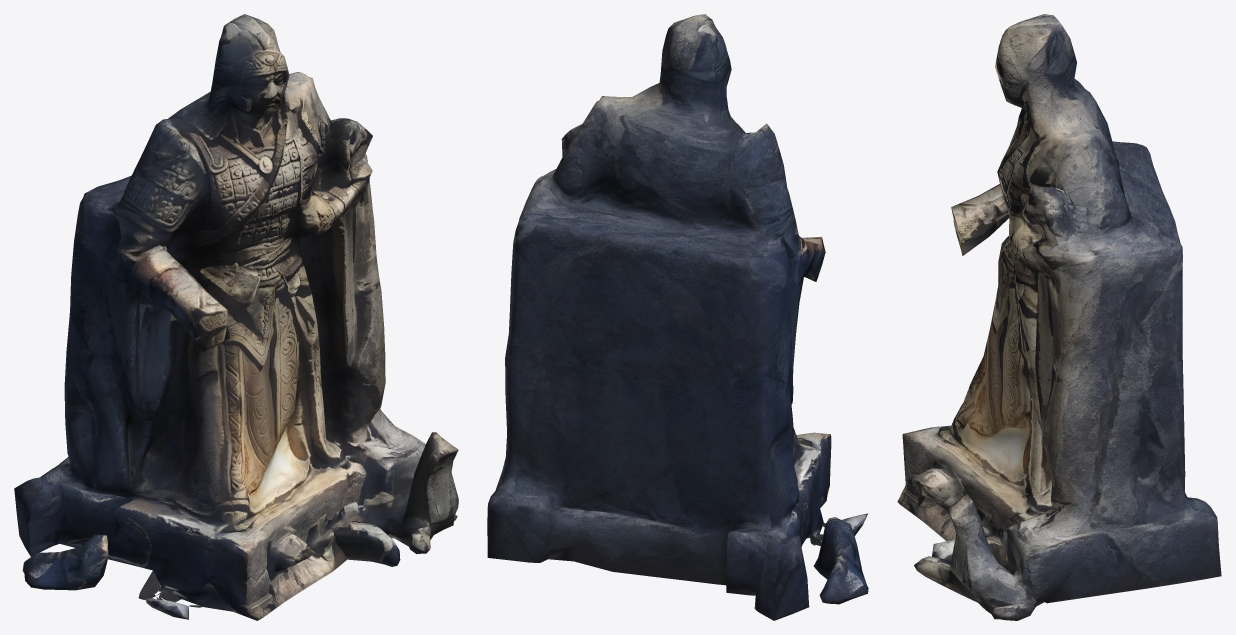
Rendered from stone+warrior+statue+3d+model.fbx.
3 views of the same model, side by side, from view 1: azimuth 30°, elevation 25°; view 2: azimuth 150°, elevation 25°; view 3: azimuth 270°, elevation 25° (orthographic). The views are drawn at different scales.
Visible parts, largest first — view 1: tripo_node_cbc37f3c; view 2: tripo_node_cbc37f3c; view 3: tripo_node_cbc37f3c.
Boxes of the visible parts, bbox=[...] form: tripo_node_cbc37f3c: bbox=[14, 14, 458, 620]; tripo_node_cbc37f3c: bbox=[487, 14, 868, 620]; tripo_node_cbc37f3c: bbox=[897, 14, 1221, 620].
Bounding box in the file's own units: 75.28 × 97.74 × 55.66.
